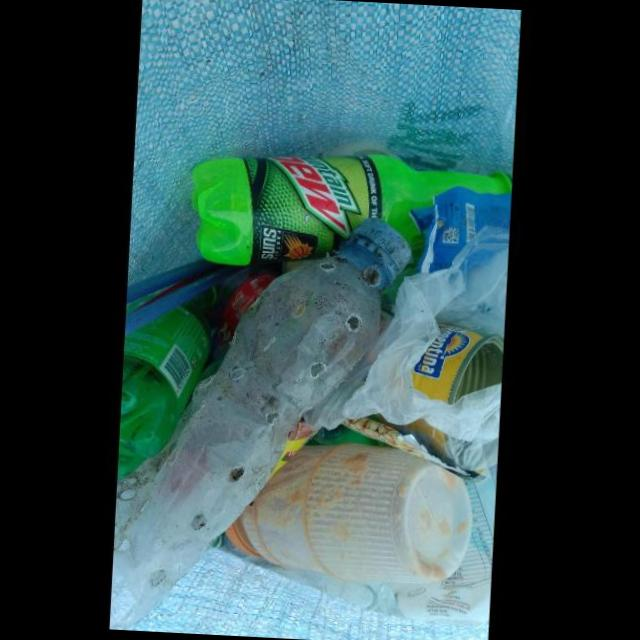chai_nhua: (191, 153, 513, 266), (118, 285, 226, 480)
chai_nhua_pet: (111, 215, 412, 627)
hop_nhua: (223, 442, 474, 586)
nhom: (396, 320, 505, 472)
